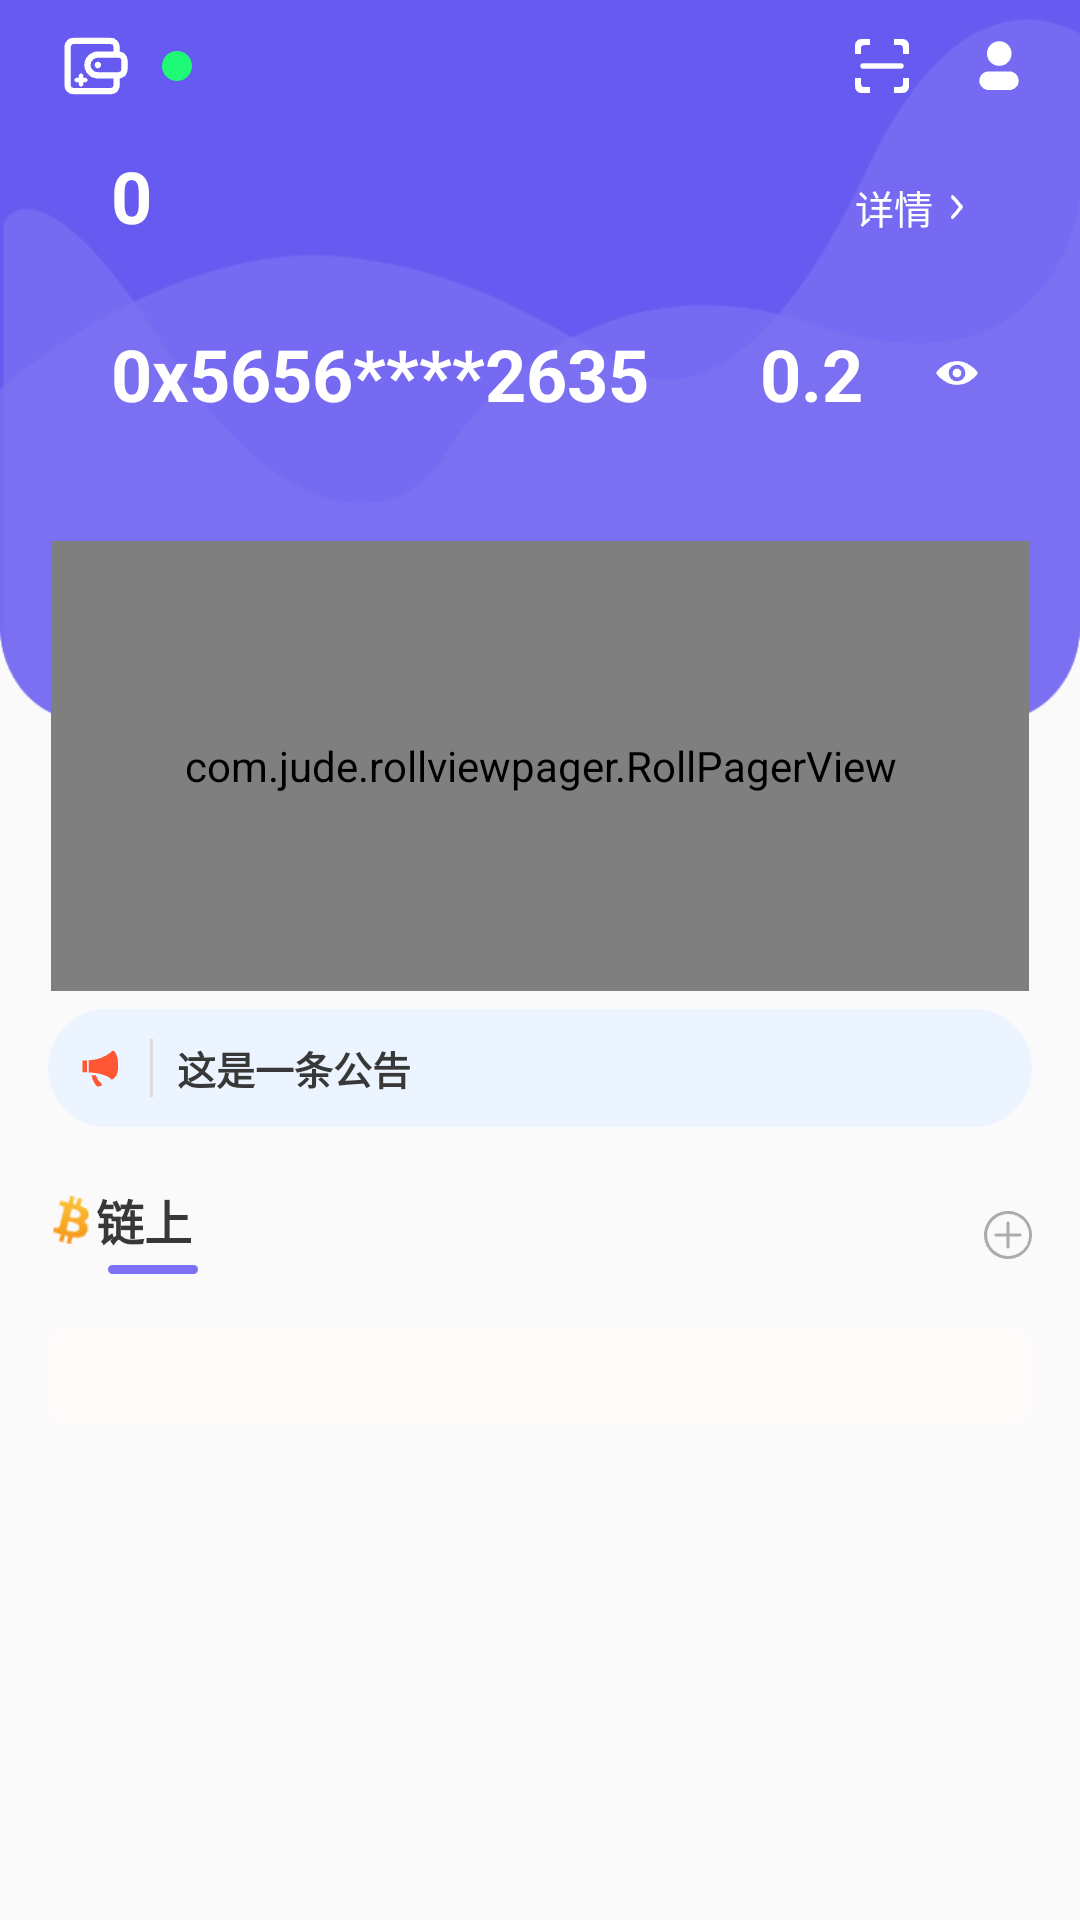

Icons on this 1080 x 1920 Android screen, each with the point to tap as (x=x, y=y):
add: (x=1008, y=1235)
head: (x=999, y=65)
notice: (x=100, y=1068)
scan: (x=882, y=66)
wallect: (x=96, y=66)
